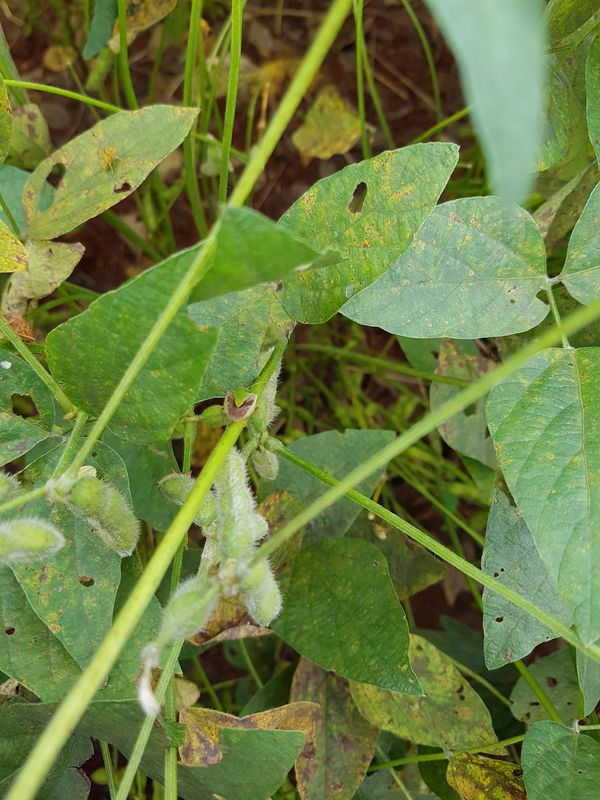Edessa_meditabunda: (214, 375, 264, 430)
Euschistus_heros_adulto: (1, 300, 53, 354)
Euschistus_heros_ninfa: (91, 141, 128, 179)
